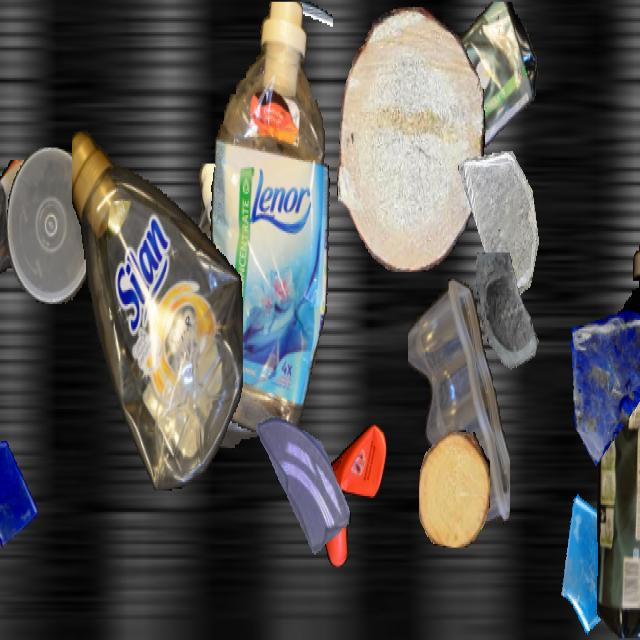glass: (256, 402, 350, 569), (557, 478, 640, 638), (458, 151, 542, 301), (565, 306, 640, 473), (471, 253, 549, 391), (0, 436, 40, 546)
metal: (270, 2, 332, 112)
plastic: (72, 117, 242, 491), (192, 2, 332, 446), (185, 164, 319, 448), (383, 2, 539, 183), (408, 279, 510, 532), (596, 226, 640, 638), (7, 148, 95, 304), (0, 160, 84, 295), (313, 425, 387, 567)
wood: (336, 7, 484, 270), (419, 430, 489, 548)
